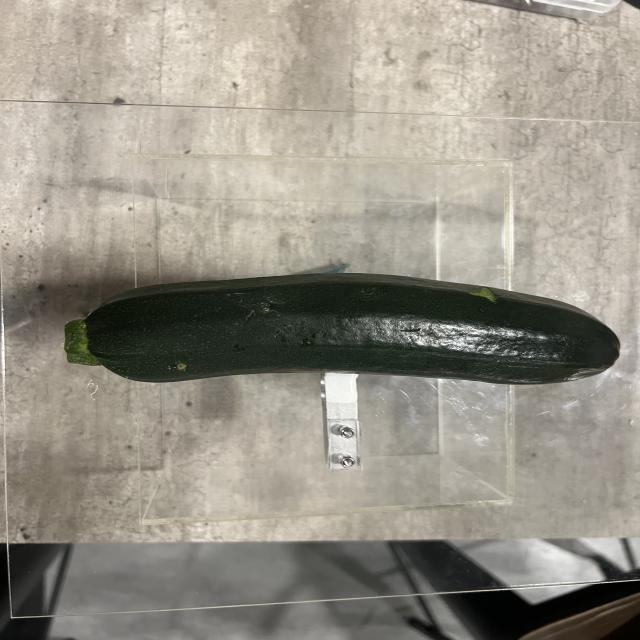zucchini: (64, 270, 620, 405)
